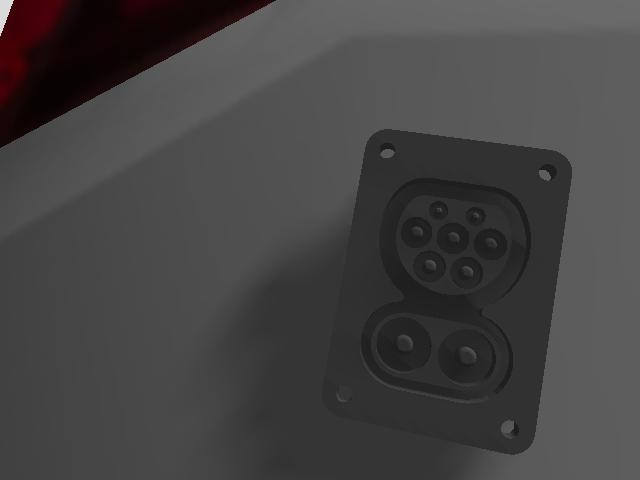EV-socket: (322, 130, 571, 453)
